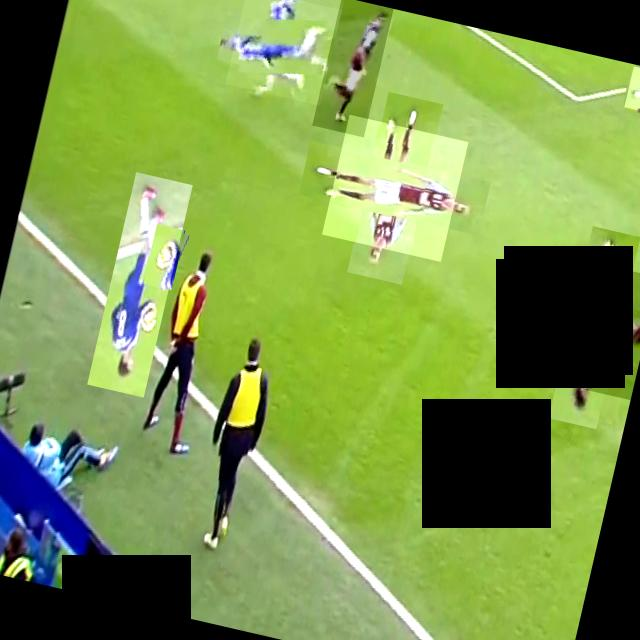goalkeeper: (140, 222, 188, 291)
soccer-player: (86, 172, 192, 397), (321, 115, 468, 262), (517, 251, 640, 400), (224, 0, 341, 105), (312, 0, 393, 137), (624, 66, 640, 116)
